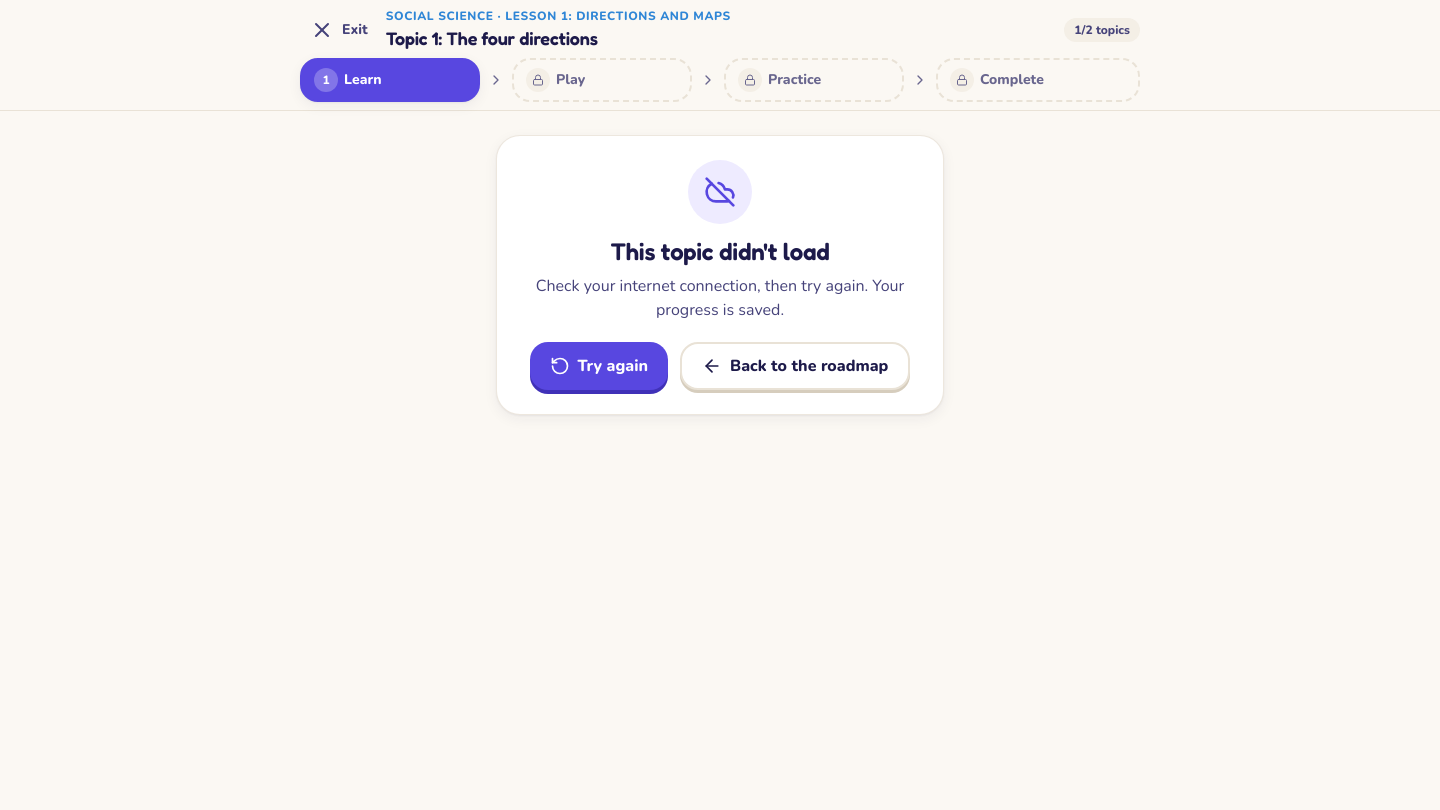
Test: topic content on demand › explains a failed download and loads the topic when the learner tries again
Check: the message shows "This topic didn't load", box [610,237,830,266]
Click the button "Try again".
click(599, 366)  # box [530,342,668,390]
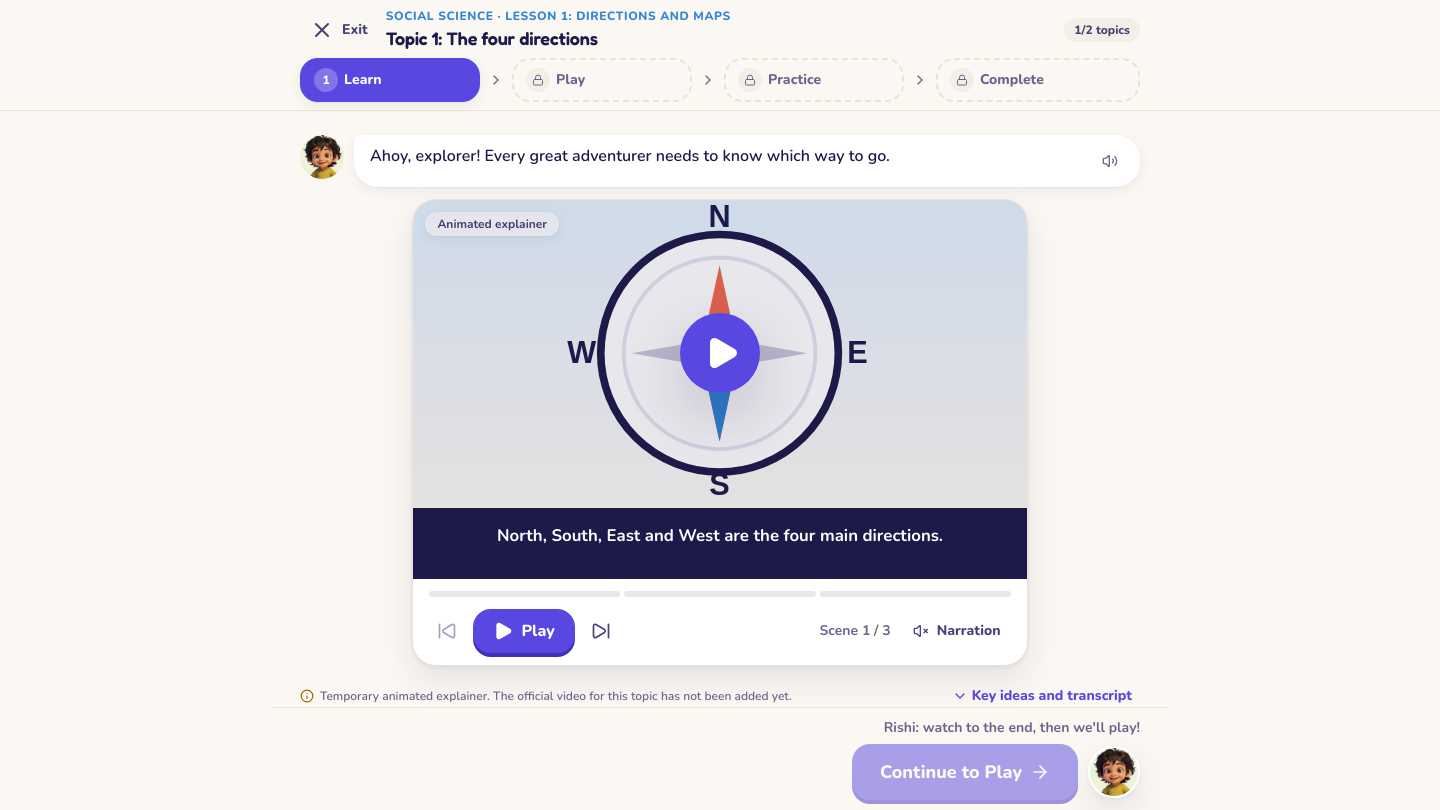
Check: the button "Key ideas and transcript" is shown, box [944,674,1140,718]
